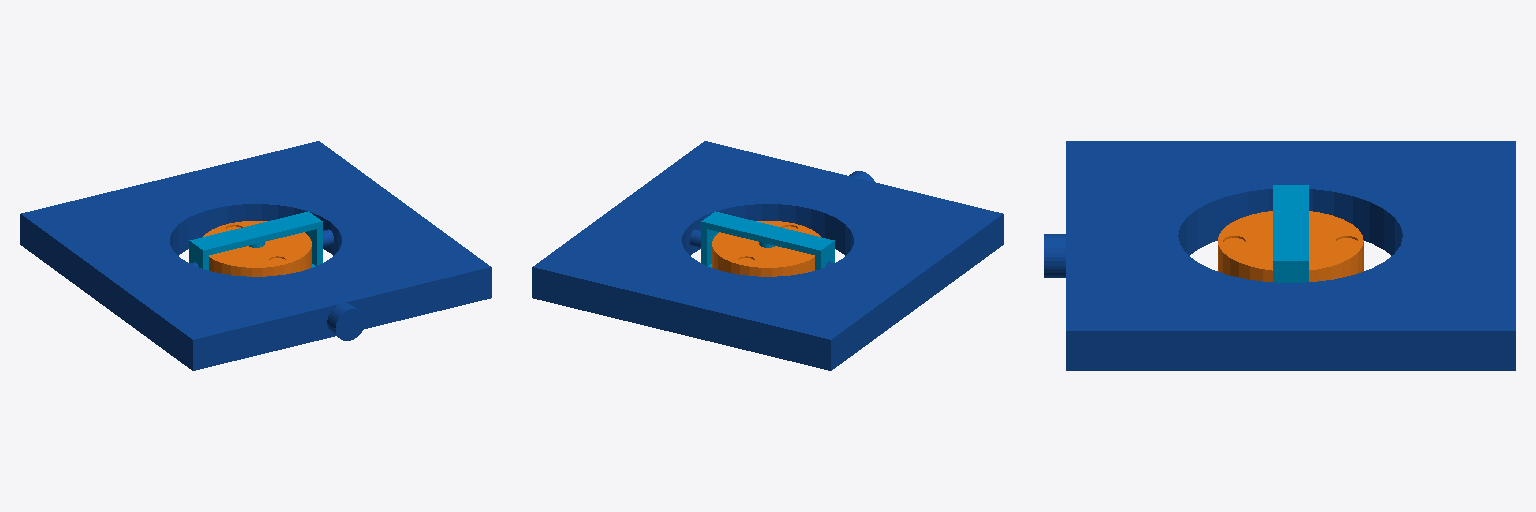
URDF robot description (platform):
<?xml version="1.0" ?>
<robot name="platform">

  <material name="industrial-blue">
    <color rgba="0.11372549019607843 0.34509803921568627 0.6549019607843137 1" />
  </material>

  <material name="arches-blue">
    <color rgba="0.0 0.6235294117647059 0.8313725490196079 1" />
  </material>

  <material name = "heritage-orange">
    <color rgba = "0.96078431 0.50980392 0.11764706 1" />
  </material>

  <link name="world"/>

  <link name="outer_link">
    <visual>
      <origin rpy="0 0 0" xyz="0 0 0"/>
      <geometry>
  			<mesh filename="cmg_outer.stl" scale="1.0 1.0 1.0"/>
      </geometry>
      <material name = "industrial-blue"/>
    </visual>
    <collision>
      <origin rpy="0 0 0" xyz="0 0 0"/>
      <geometry>
  			<mesh filename="cmg_outer.stl" scale="1.0 1.0 1.0"/>
      </geometry>
    </collision>
    <inertial>
      <origin rpy="0 0 0" xyz="0 0 0"/>
      <mass value="1.0"/>
      <inertia ixx="0.25" ixy="0" ixz="0" iyy="0.25" iyz="0" izz="0.5"/>
    </inertial>
  </link>

  <link name="inner_link">
    <visual>
      <origin rpy="0 0 0" xyz="0 0 0"/>
      <geometry>
  			<mesh filename="cmg_inner.stl" scale="1.0 1.0 1.0"/>
      </geometry>
      <material name = "arches-blue"/>
    </visual>
    <collision>
      <origin rpy="0 0 0" xyz="0 0 0"/>
      <geometry>
  			<mesh filename="cmg_inner.stl" scale="1.0 1.0 1.0"/>
      </geometry>
    </collision>
    <inertial>
      <origin rpy="0 0 0" xyz="0 0 0"/>
      <mass value="0.01"/>
      <inertia ixx="0.001" ixy="0" ixz="0" iyy="0.001" iyz="0" izz="0.001"/>
    </inertial>
  </link>

  <link name="wheel_link">
    <visual>
      <origin rpy="0 0 0" xyz="0 0 0"/>
      <geometry>
  			<mesh filename="cmg_wheel.stl" scale="1.0 1.0 1.0"/>
      </geometry>
      <material name = "heritage-orange"/>
    </visual>
    <collision>
      <origin rpy="0 0 0" xyz="0 0 0"/>
      <geometry>
  			<mesh filename="cmg_wheel.stl" scale="1.0 1.0 1.0"/>
      </geometry>
    </collision>
    <inertial>
      <origin rpy="0 0 0" xyz="0 0 0"/>
      <mass value="0.1"/>
      <inertia ixx="0.01" ixy="0" ixz="0" iyy="0.01" iyz="0" izz="0.01"/>
    </inertial>
  </link>

  <joint name="world_to_outer" type="continuous">
		<parent link = "world" />
		<child link = "outer_link" />
		<origin xyz = "0 0 0" />
		<axis xyz = "0 1 0" />
		<limit effort="1000" velocity="1000"/>
	</joint>

  <joint name="outer_to_inner" type="continuous">
		<parent link = "outer_link" />
		<child link = "inner_link" />
		<origin xyz = "0 0 0" />
		<axis xyz = "1 0 0" />
		<limit effort="1000" velocity="1000"/>
	</joint>

  <joint name="inner_to_wheel" type="continuous">
		<parent link = "inner_link" />
		<child link = "wheel_link" />
		<origin xyz = "0 0 0" />
		<axis xyz = "0 0 1" />
		<limit effort="1000" velocity="1000"/>
	</joint>

</robot>

--- What the picture shows (computed from the rendered views, not written in the file) ---
The picture shows the robot from 3 angles, left to right: view 1: azimuth 30°, elevation 25°; view 2: azimuth 150°, elevation 25°; view 3: azimuth 270°, elevation 25°; orthographic projection.
Robot: platform — 4 links, 3 joints (3 continuous); root link world; default pose: all joints at 0.
Links seen in each view (by area): view 1: outer_link, wheel_link, inner_link; view 2: outer_link, wheel_link, inner_link; view 3: outer_link, wheel_link, inner_link.
Link boxes in pixels (x1,y1,x2,y2): outer_link: (20,141,491,370); wheel_link: (203,221,311,276); inner_link: (189,211,322,270); outer_link: (532,141,1003,370); wheel_link: (712,221,820,276); inner_link: (701,211,834,270); outer_link: (1044,141,1515,370); wheel_link: (1218,211,1363,281); inner_link: (1273,185,1308,282).
Size in the robot's own frame: 2 by 2.1 by 0.32 metres.
Meshes: 3 distinct files referenced, 3 mesh visuals loaded (3 binary STL).
